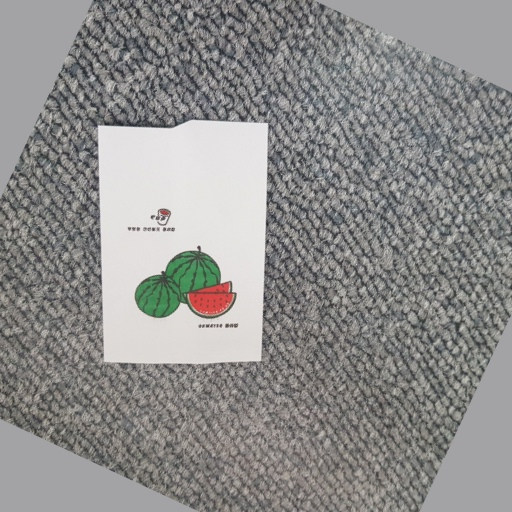Paper_2: (87, 109, 284, 381)
